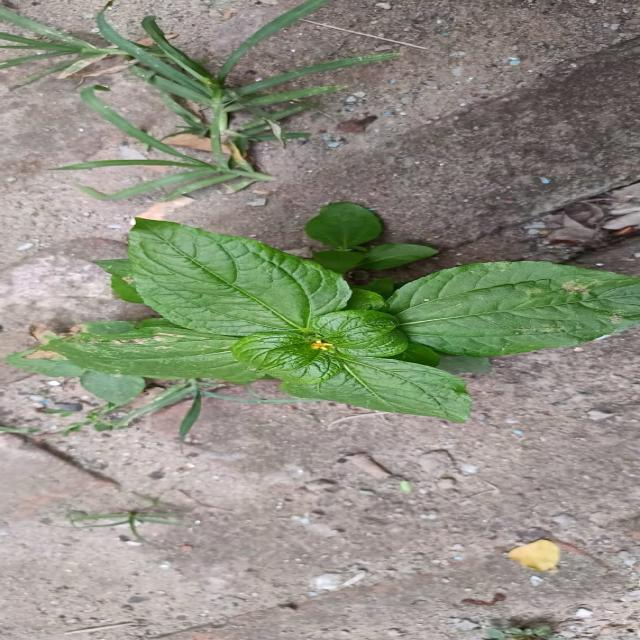plant: (8, 202, 640, 421)
